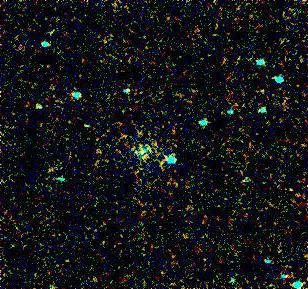star: (250, 73, 280, 103)
